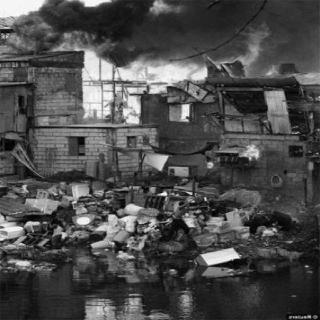Smoke: (77, 3, 156, 31)
